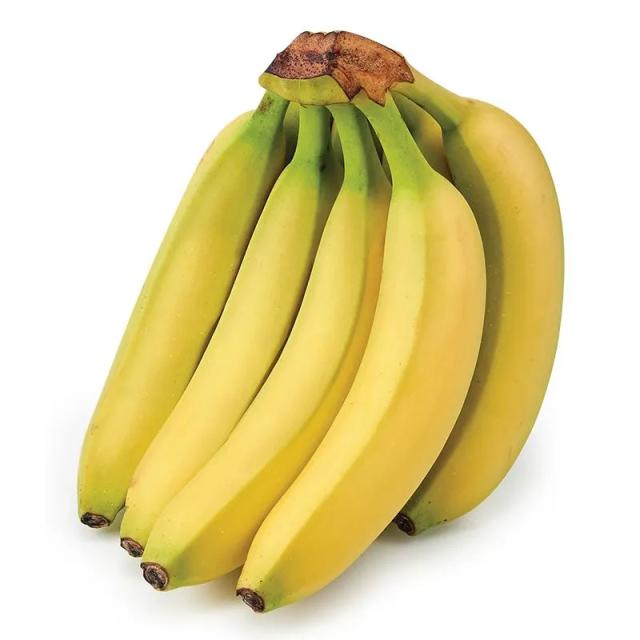chuoi: (78, 31, 562, 612)
